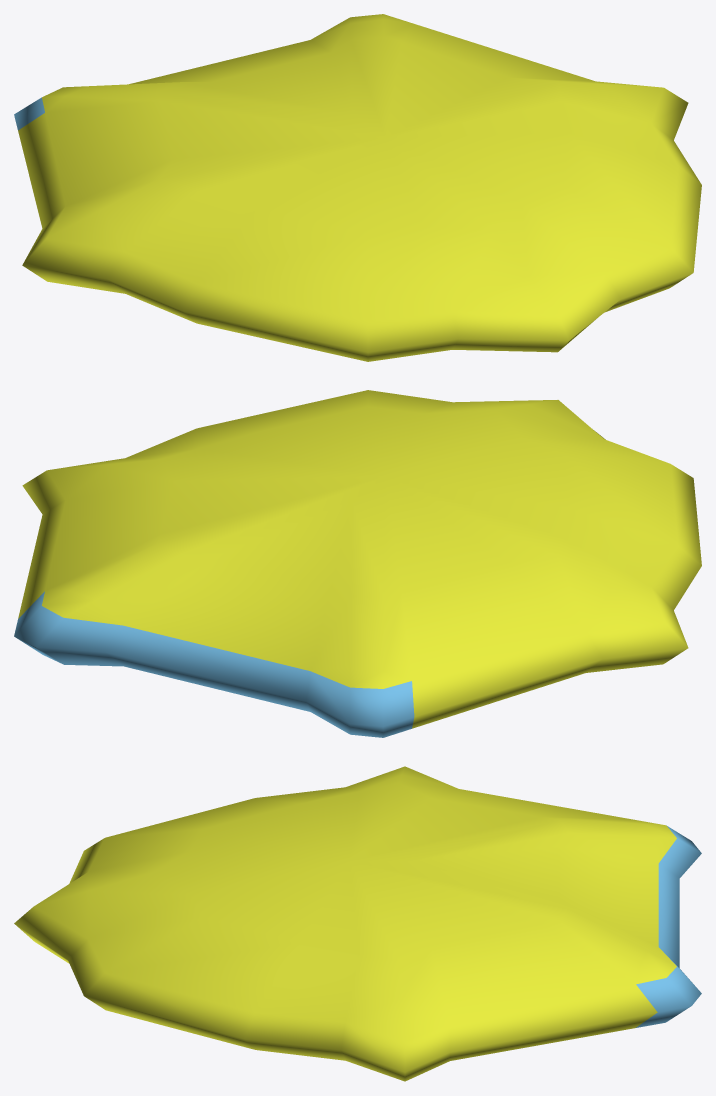
File: lightstar.fbx
The picture shows the model from 3 angles, top to bottom: view 1: azimuth 30°, elevation 25°; view 2: azimuth 150°, elevation 25°; view 3: azimuth 270°, elevation 25°; orthographic projection. The views are drawn at different scales.
Visible parts, largest first — view 1: 球; view 2: 球; view 3: 球.
Part boxes in pixels (x1,y1,x2,y2): 球: [14, 14, 701, 361]; 球: [14, 390, 701, 737]; 球: [14, 766, 701, 1081].
Bounding box in the file's own units: 205 × 37.67 × 200.
